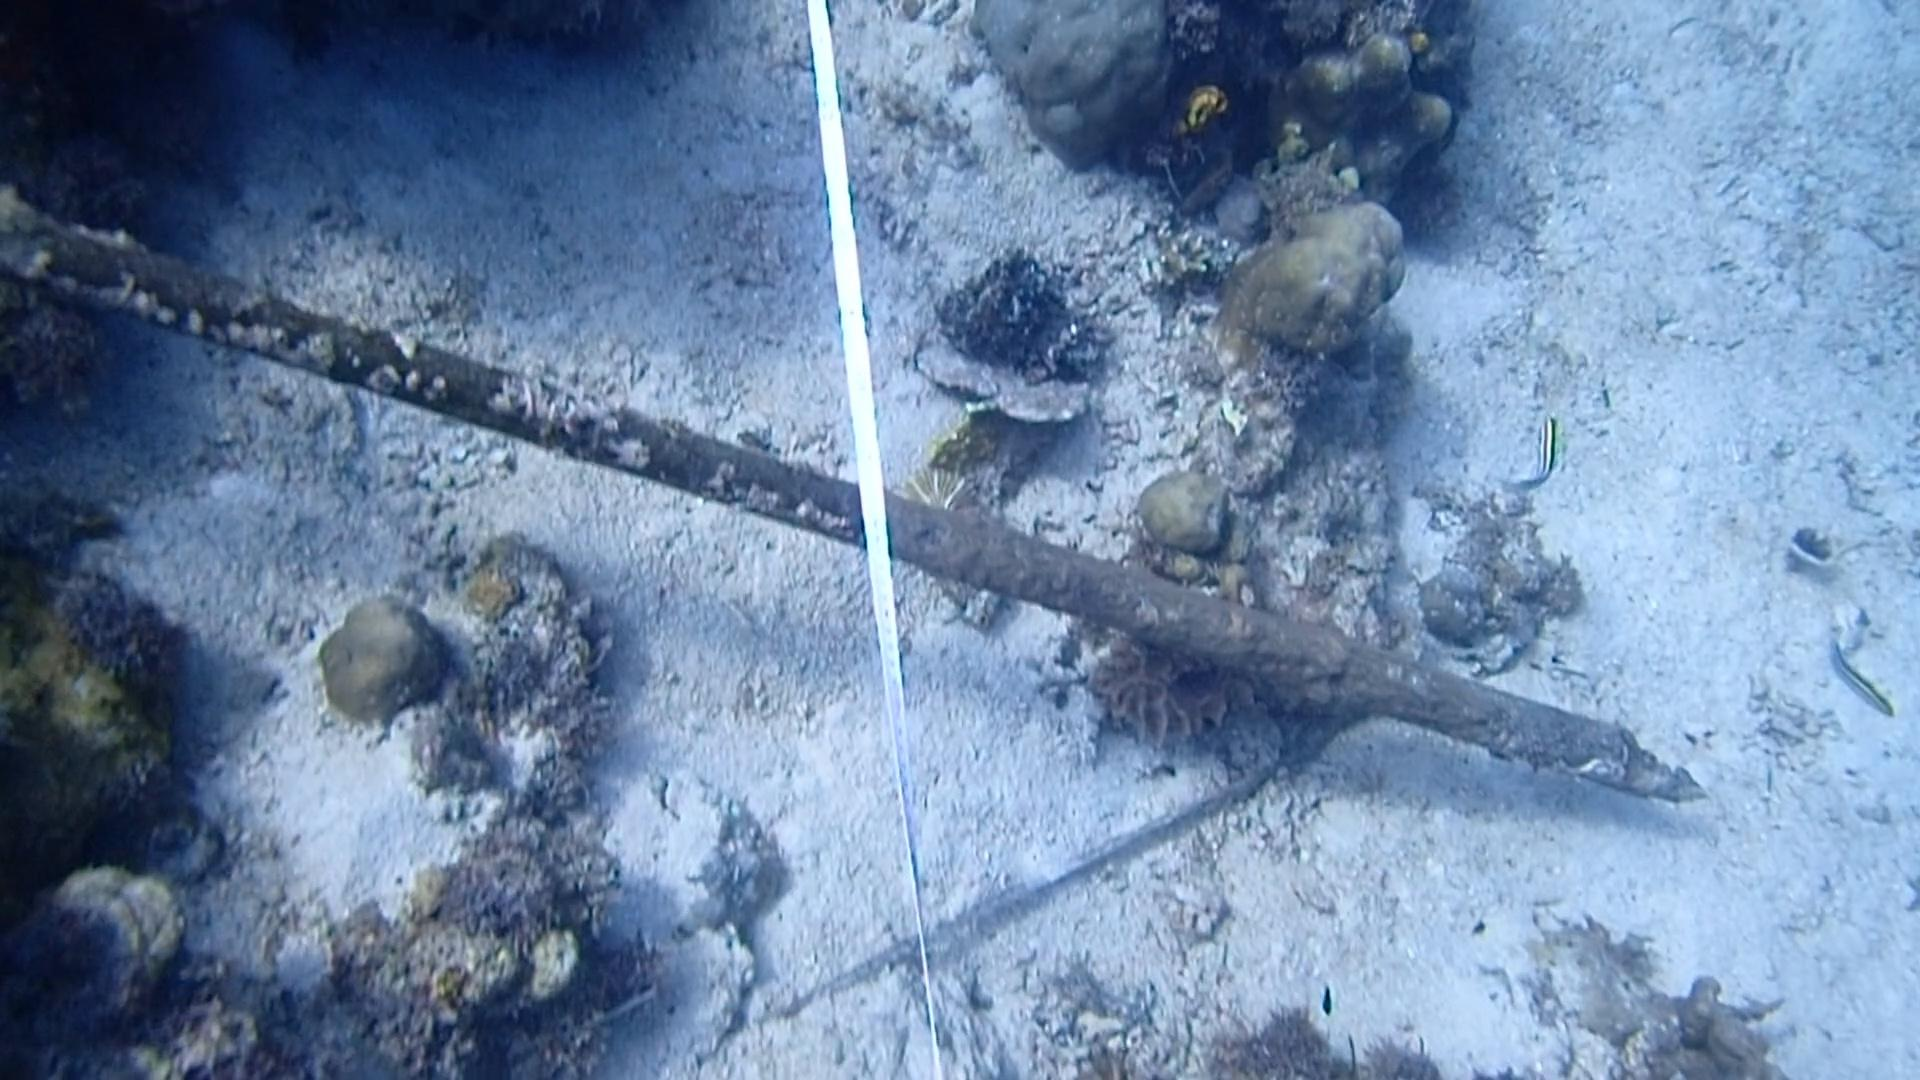Striped Fish: (1815, 633, 1905, 732), (1509, 411, 1580, 500)
